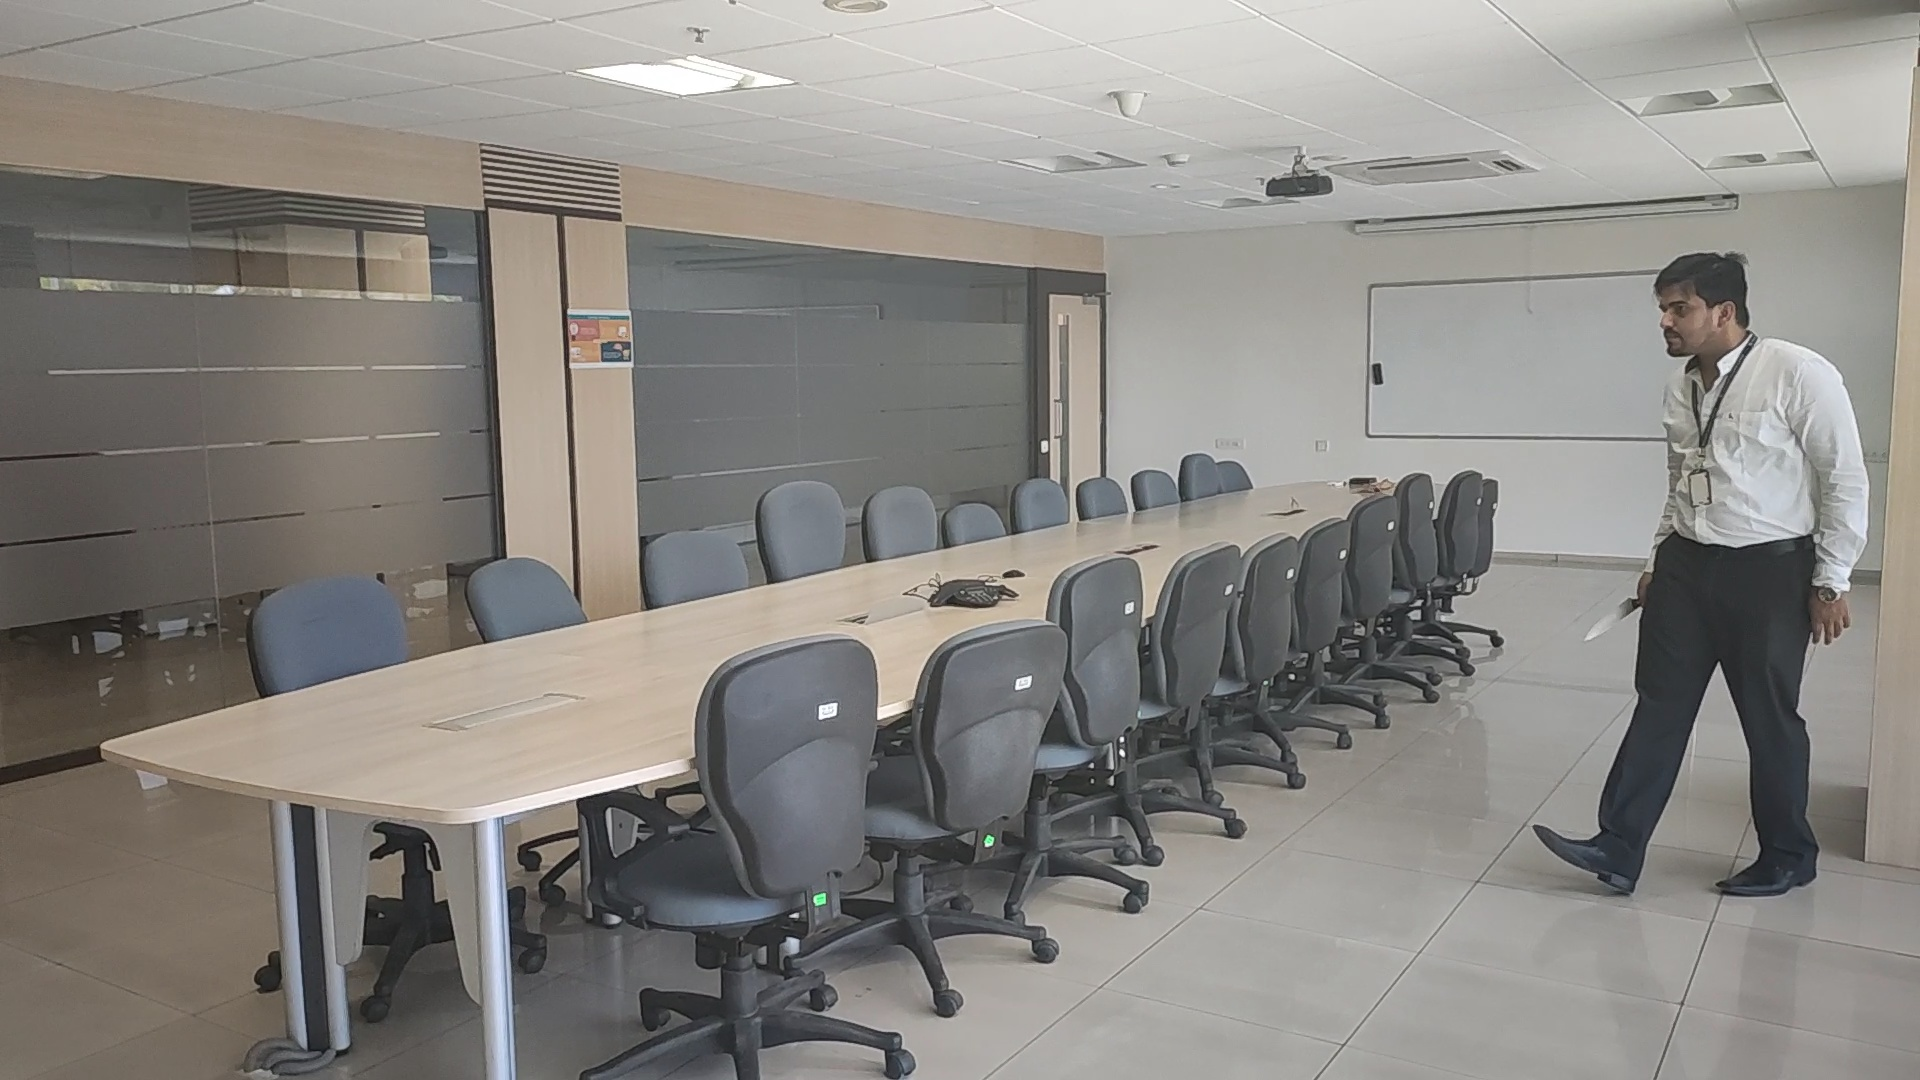knife: (1582, 597, 1636, 641)
